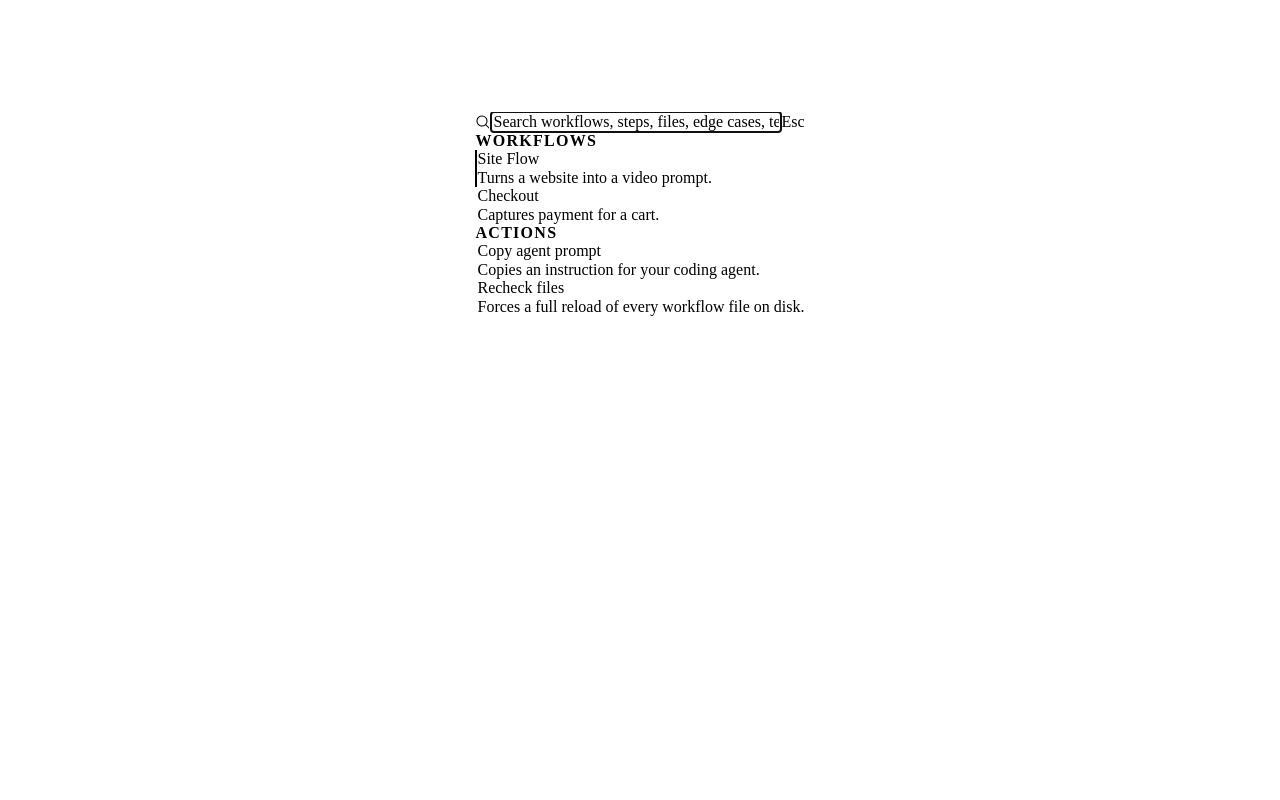
Scenario: CommandPalette › filters as the user types
This screenshot has width=1280, height=800.
Type "Scrape" into the dropdown at [636, 122], box [492,112,781,132]
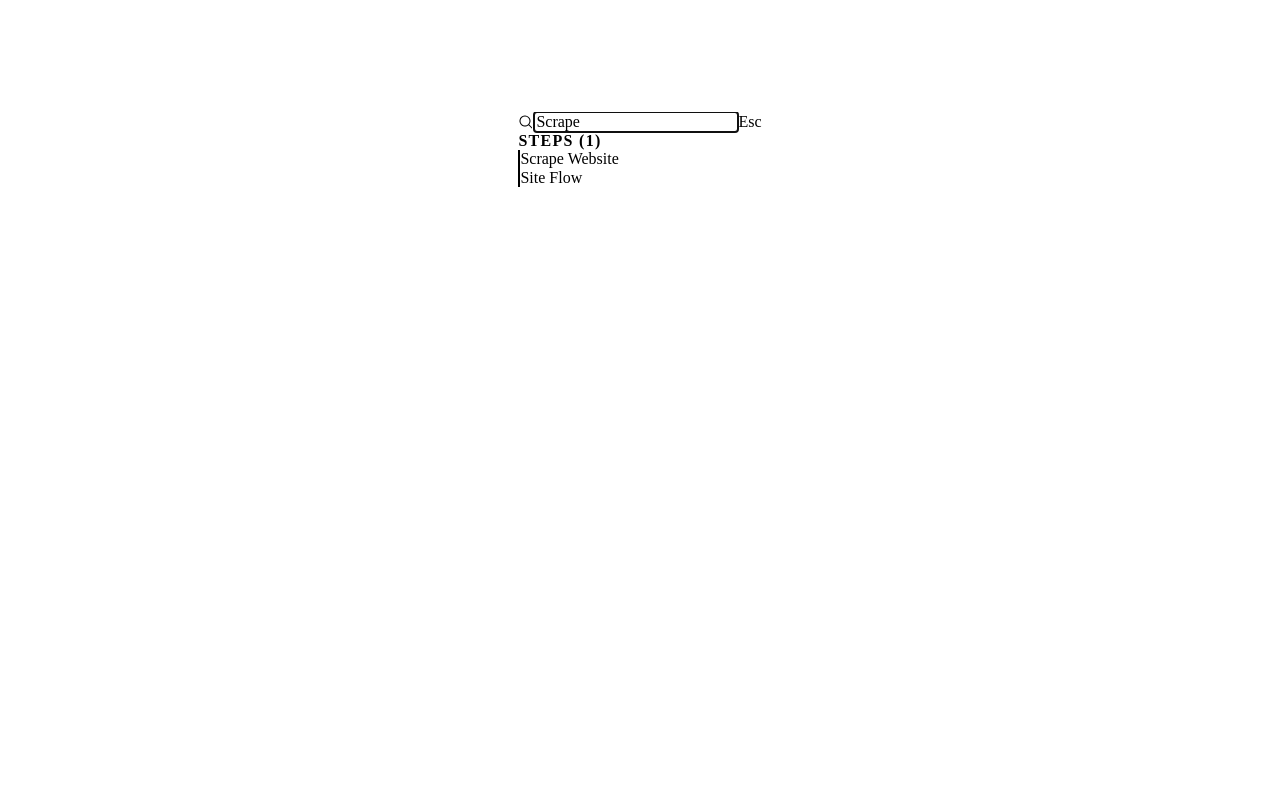
Expected: the text "Scrape Website" is shown, [520,150,619,167]
Expected: the option "Checkout" is gone
